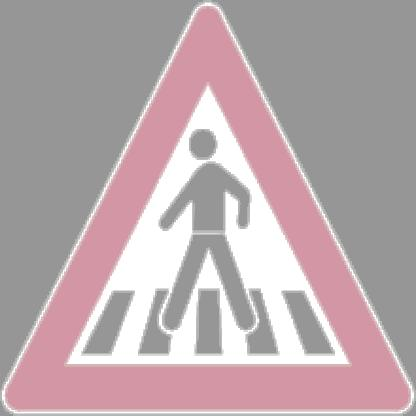Pedestrian Crossing: (16, 26, 404, 400)
